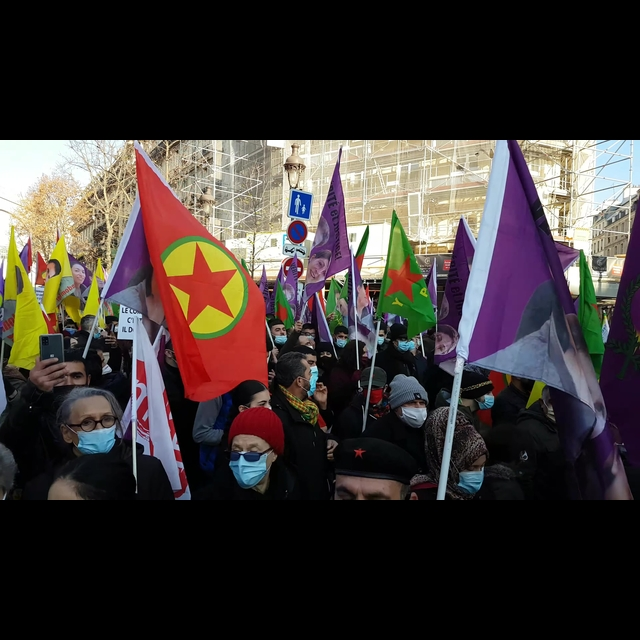PKK: (159, 229, 248, 347)
